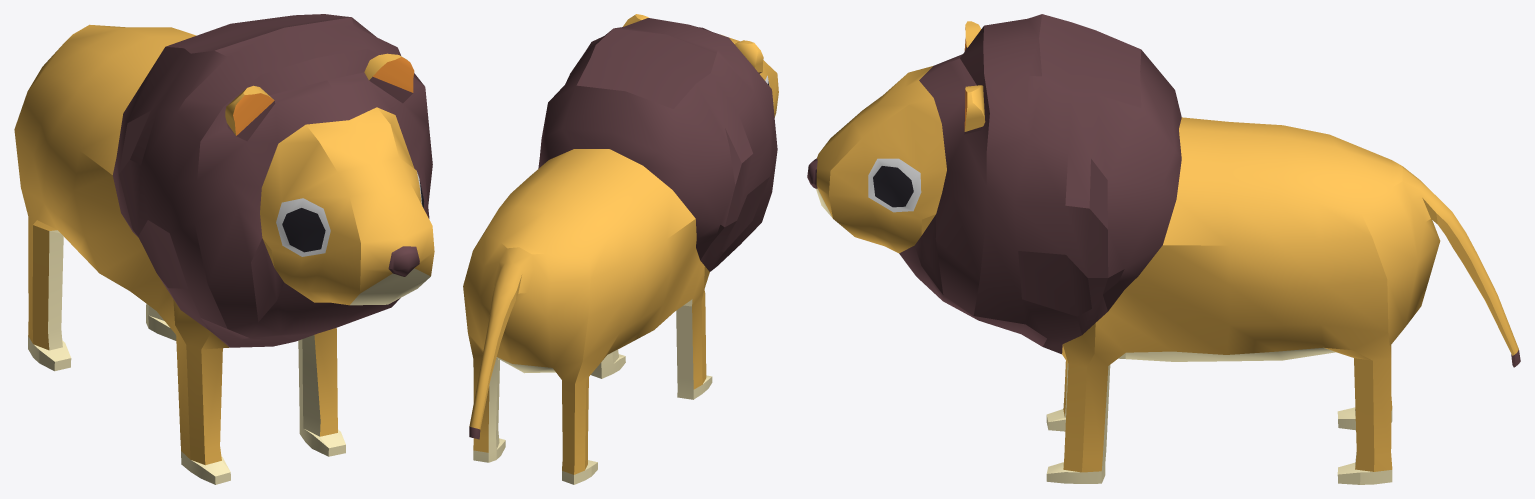
Rendered from lion3.glb.
3 renders of one model, left to right at view 1: azimuth 30°, elevation 25°; view 2: azimuth 150°, elevation 25°; view 3: azimuth 270°, elevation 25°, orthographic. The views are drawn at different scales.
Visible parts, largest first — view 1: Lion; view 2: Lion; view 3: Lion.
Boxes of the visible parts, x1,y1,x2,y2 form: Lion: (14,14,434,484); Lion: (463,14,778,484); Lion: (807,14,1520,484).
Size of the model in its own units: 1.13 by 1.85 by 2.89.
